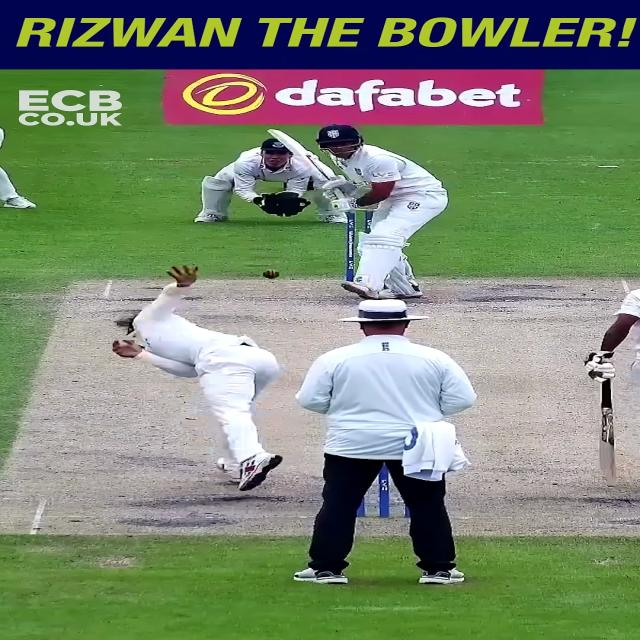cricketBall: (262, 270, 280, 279)
